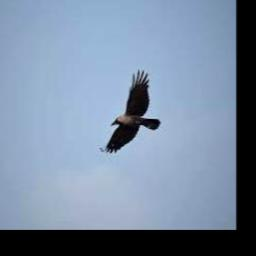Crow: (106, 69, 161, 153)
